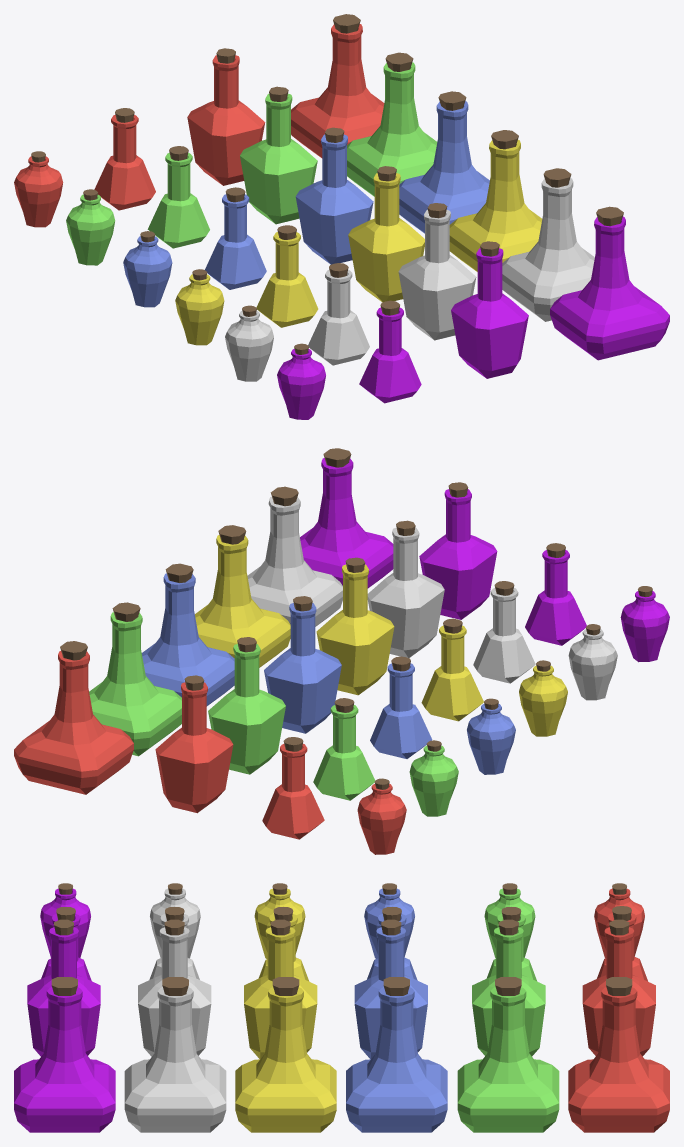
File: simple_low-poly_potion_bottles..glb
3 renders of one model, top to bottom at view 1: azimuth 30°, elevation 25°; view 2: azimuth 150°, elevation 25°; view 3: azimuth 270°, elevation 25°, orthographic. The views are drawn at different scales.
Parts seen in each view (by area): view 1: Large_Purple_8, Large_White_16, Large_Red_12, Medium_Purple_9, Large_Green_1, Large_Yellow_21, Large_Blue_4, Medium_Green_0, Medium_Red_13, Medium_White_17, Medium_Blue_5, Medium_Yellow_20 (+12 smaller); view 2: Large_Red_12, Large_Green_1, Large_Yellow_21, Medium_Red_13, Large_Blue_4, Large_White_16, Large_Purple_8, Medium_Blue_5, Medium_Green_0, Medium_Yellow_20, Medium_Purple_9, Medium_White_17 (+12 smaller); view 3: Large_Green_1, Large_White_16, Large_Yellow_21, Large_Blue_4, Large_Purple_8, Large_Red_12, Medium_Blue_5, Medium_Yellow_20, Medium_Red_13, Medium_White_17, Medium_Purple_9, Medium_Green_0 (+12 smaller).
Part boxes in pixels (x1,y1,x2,y2): Large_Purple_8: (550, 206, 669, 360); Large_White_16: (502, 168, 594, 321); Large_Red_12: (291, 14, 384, 158); Medium_Purple_9: (451, 241, 528, 378); Large_Green_1: (347, 52, 437, 196); Large_Yellow_21: (449, 130, 542, 271); Large_Blue_4: (399, 91, 489, 233); Medium_Green_0: (240, 86, 317, 224); Medium_Red_13: (187, 48, 265, 185); Medium_White_17: (398, 203, 476, 340); Medium_Blue_5: (295, 127, 373, 264); Medium_Yellow_20: (348, 166, 424, 302); Large_Red_12: (14, 641, 133, 794); Large_Green_1: (89, 602, 181, 756); Large_Yellow_21: (195, 525, 290, 667); Medium_Red_13: (155, 675, 233, 813); Large_Blue_4: (141, 563, 234, 706); Large_White_16: (247, 486, 342, 626); Large_Purple_8: (300, 448, 393, 588); Medium_Blue_5: (264, 596, 341, 733); Medium_Green_0: (208, 637, 285, 774); Medium_Yellow_20: (316, 557, 394, 695); Medium_Purple_9: (419, 482, 497, 619); Medium_White_17: (367, 520, 444, 657); Large_Green_1: (457, 977, 559, 1132); Large_White_16: (124, 977, 226, 1132); Large_Yellow_21: (235, 977, 336, 1132); Large_Blue_4: (346, 977, 447, 1132); Large_Purple_8: (14, 977, 115, 1132); Large_Red_12: (568, 977, 669, 1132); Medium_Blue_5: (354, 919, 427, 1059); Medium_Yellow_20: (244, 919, 317, 1058); Medium_Red_13: (582, 919, 655, 1056); Medium_White_17: (138, 919, 211, 1056); Medium_Purple_9: (27, 919, 100, 1056); Medium_Green_0: (472, 919, 545, 1056).
Bounding box in the file's own units: 26.56 × 8.81 × 38.63.
